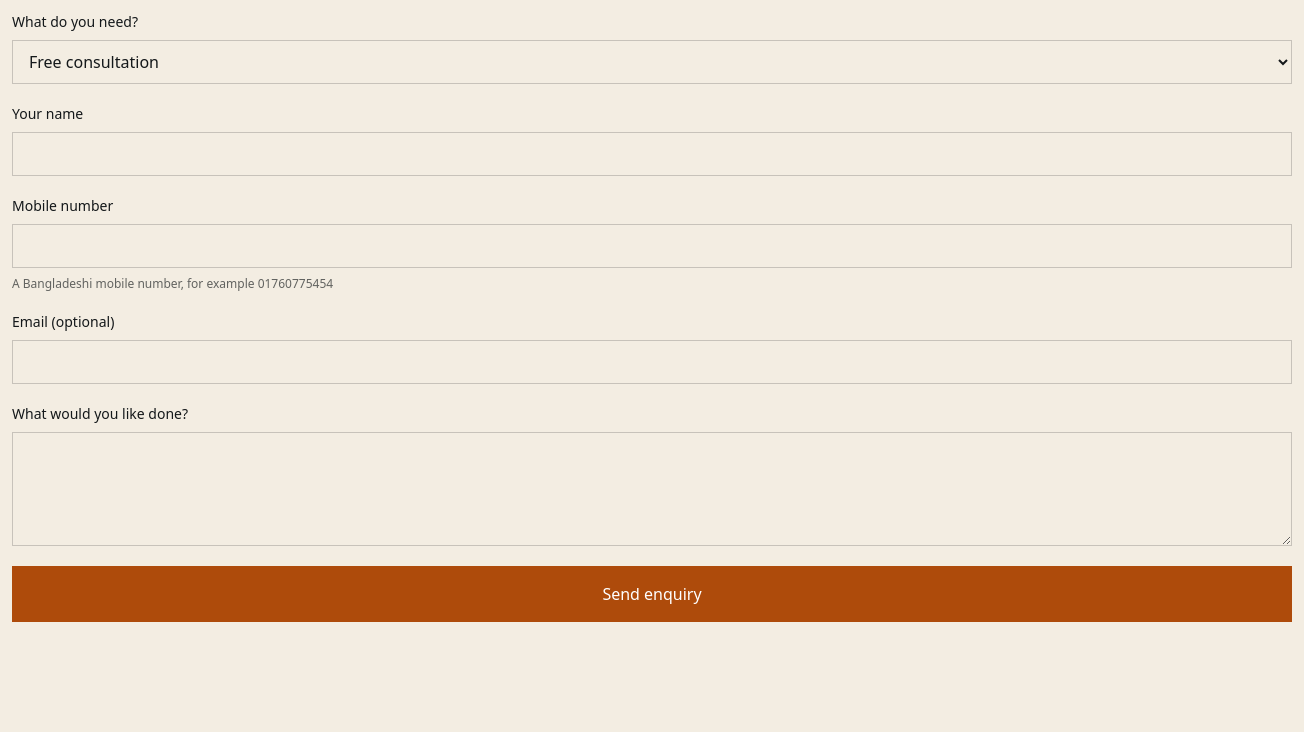
Test: LeadForm › shows a success message and clears the form
Type "Rahim" into the field labelled "Your name". click: (652, 154)
box: [12,132,1292,176]
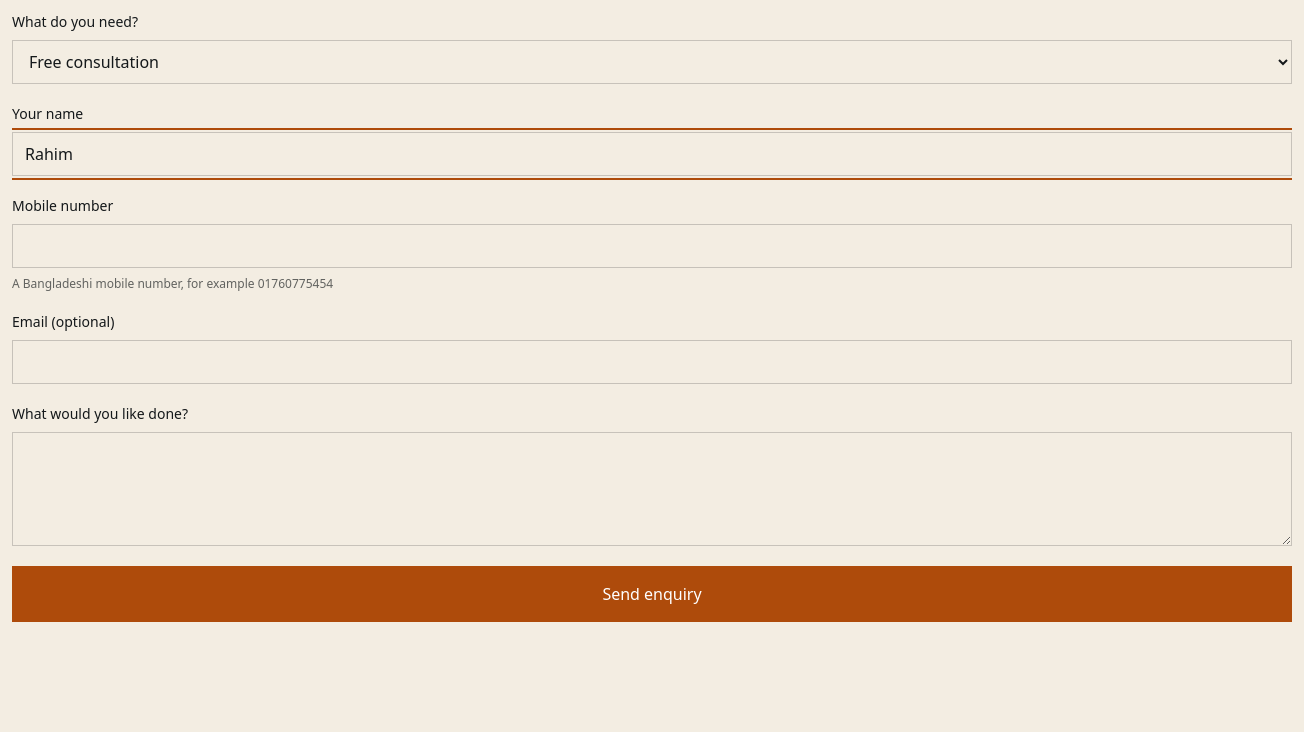
Type "01760775454" into the field labelled "Mobile number". click: (652, 246)
box: [12,224,1292,268]
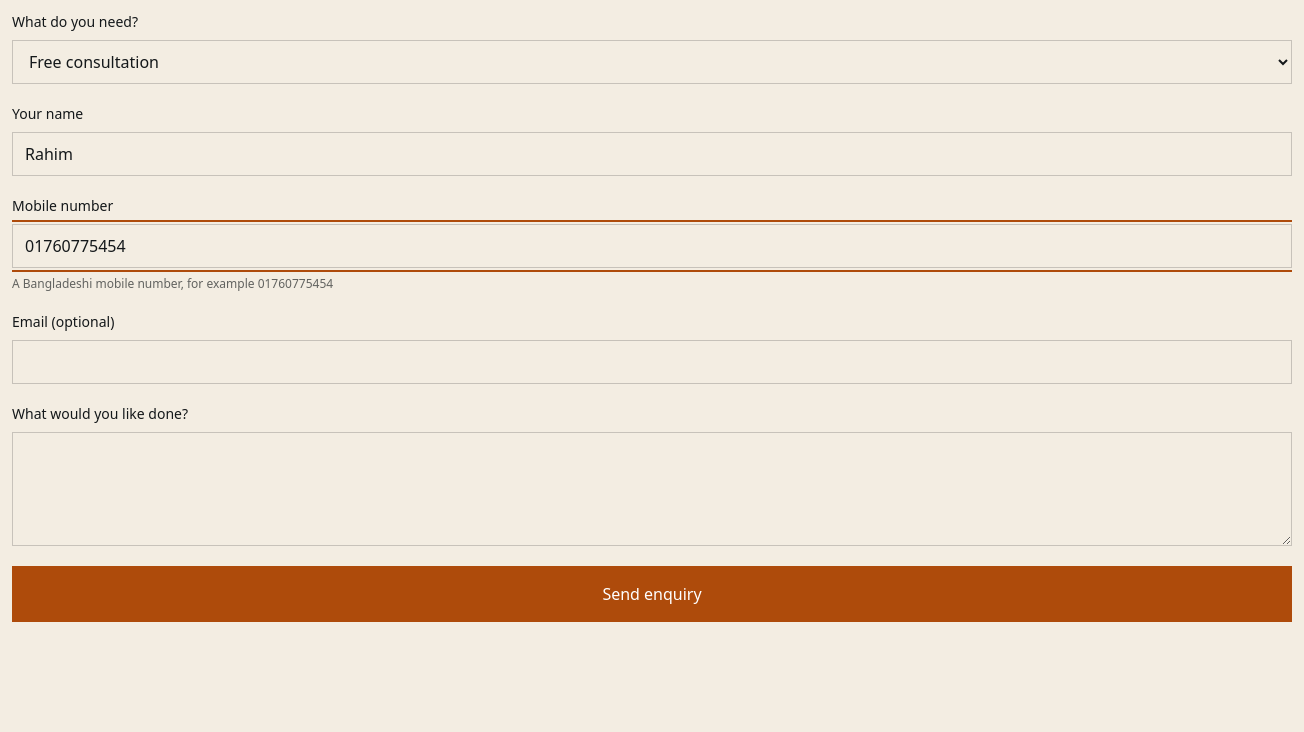
Click the button "Send enquiry". click: (652, 594)
box: [12,566,1292,622]
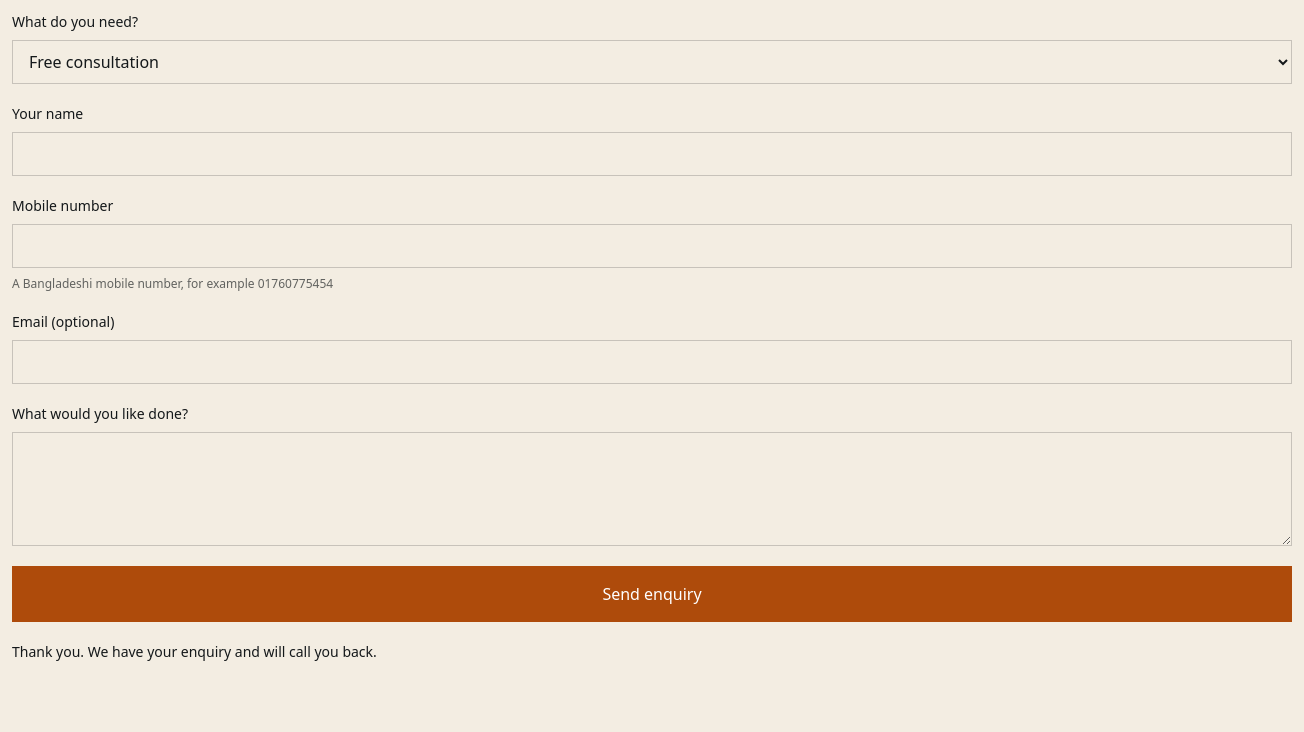
Result: the text "Thank you. We have your enquiry and will call you back." is shown at [12,642,377,661]
Result: the field labelled "Your name" is empty at [12,132,1292,176]
